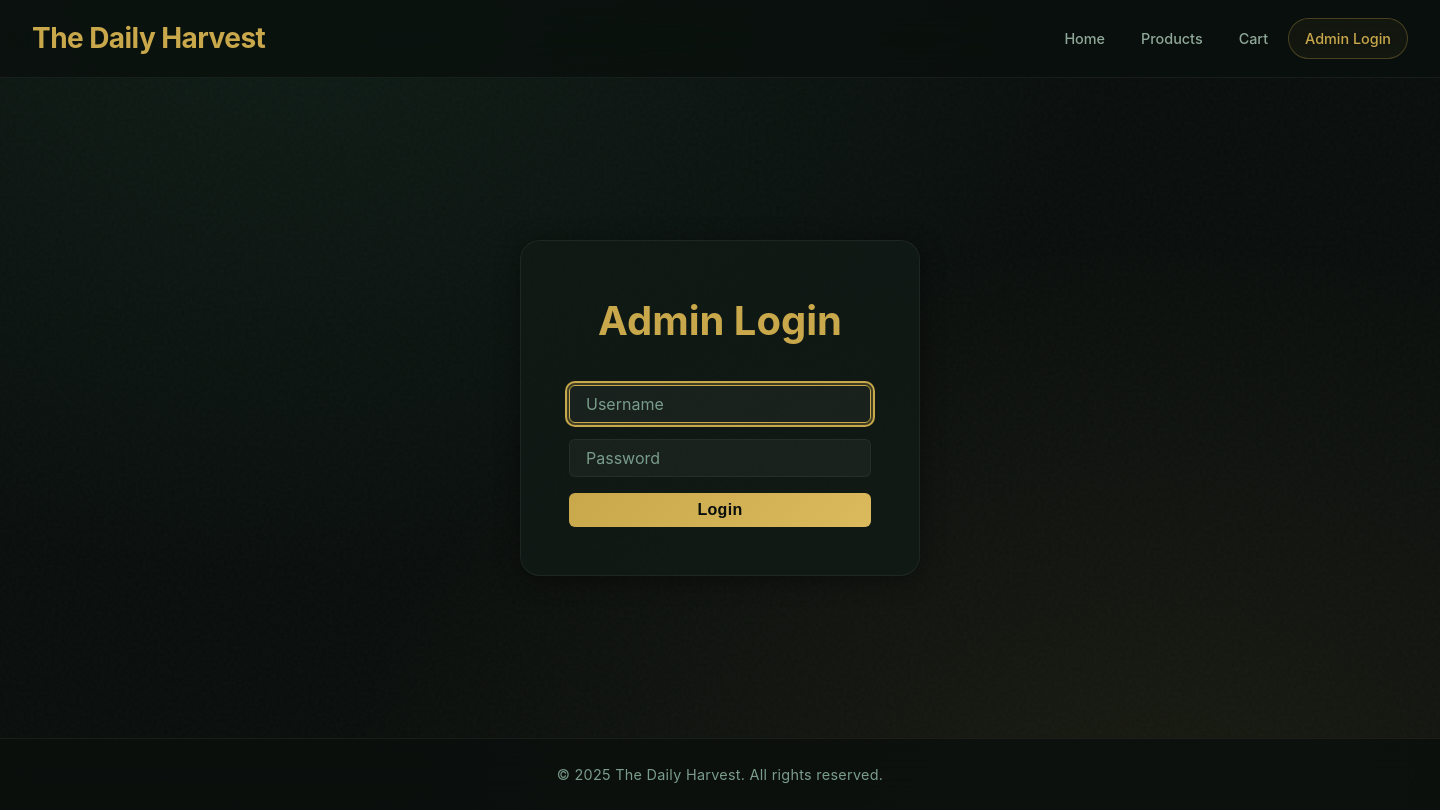
LoginPage › shows error for empty credentials
Click the button "Login".
click(720, 510)  # box [569, 493, 871, 527]
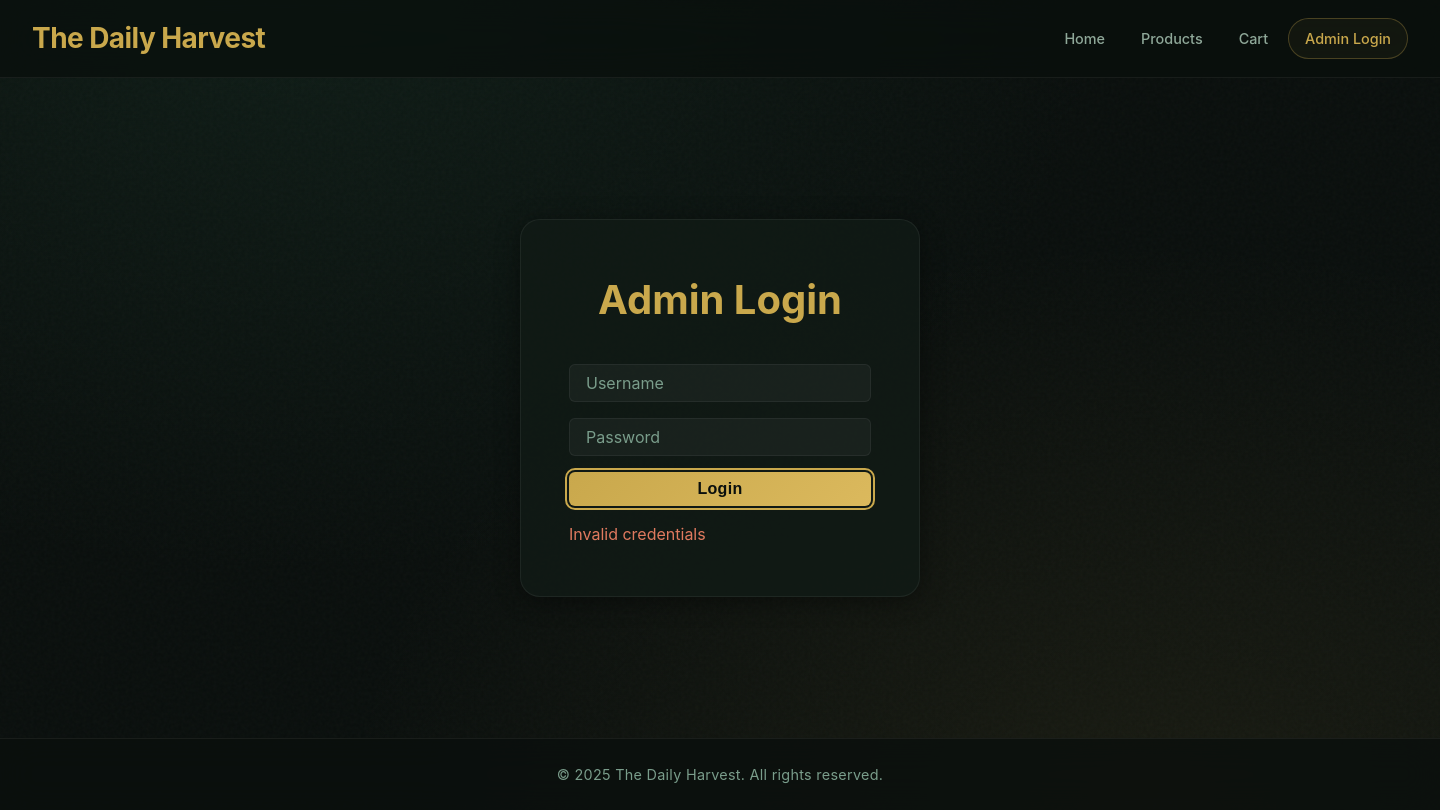
Result: the text "Invalid credentials" is shown at [569, 524, 706, 544]
